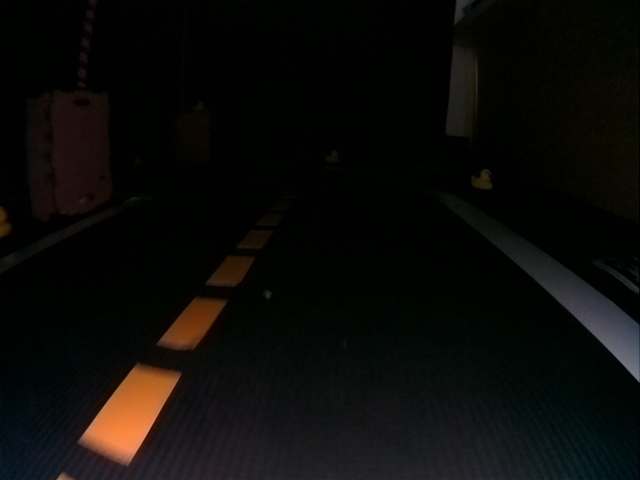Duckie: (471, 169, 493, 189), (326, 151, 338, 161)
